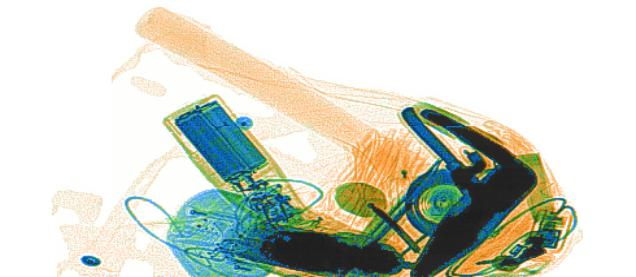battery: (174, 101, 267, 186)
